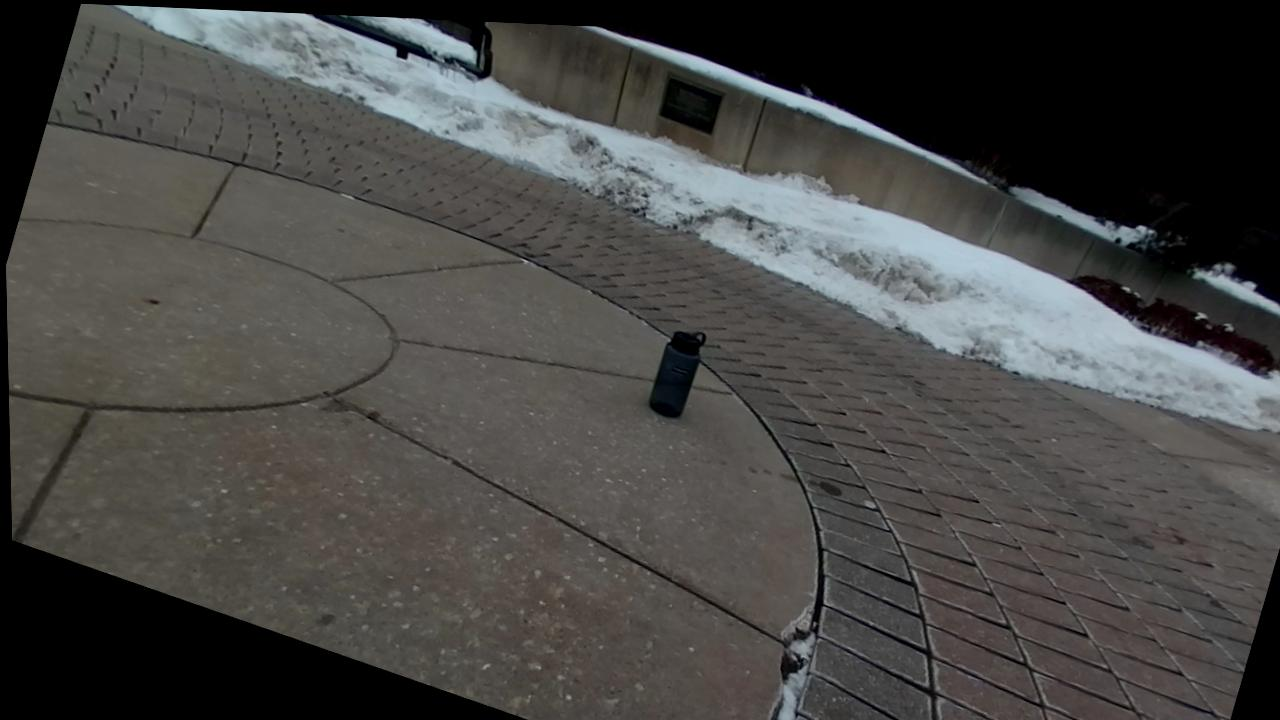bottle: (649, 331, 705, 417)
